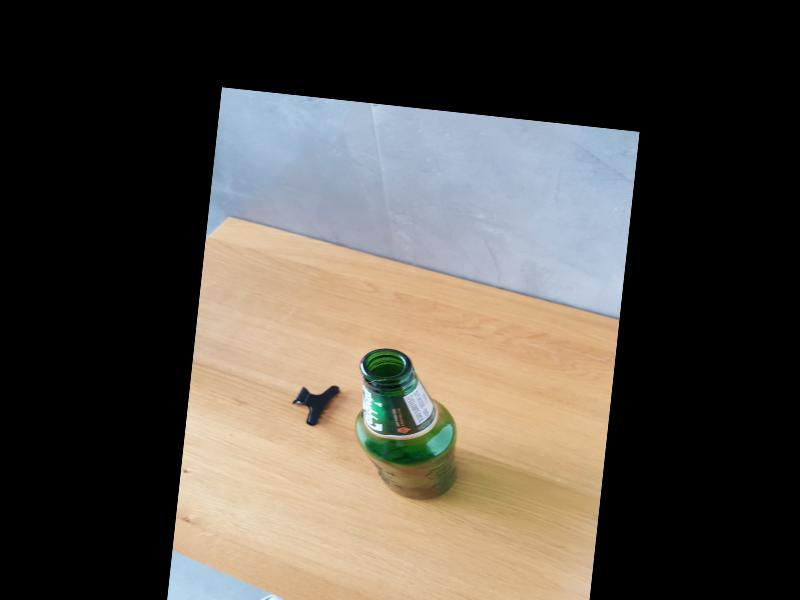Beer: (345, 345, 469, 505)
